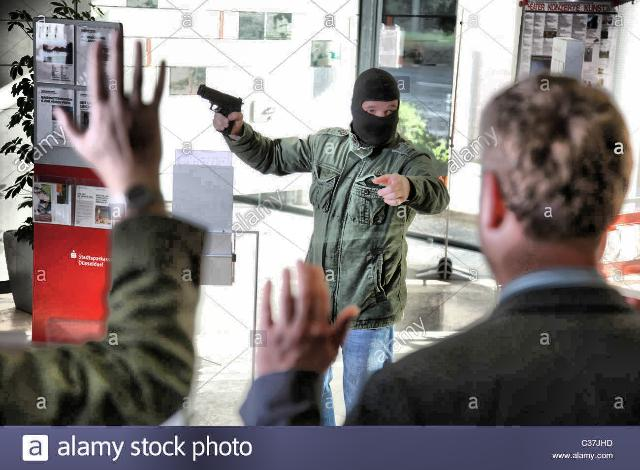pistol: (197, 84, 243, 136)
